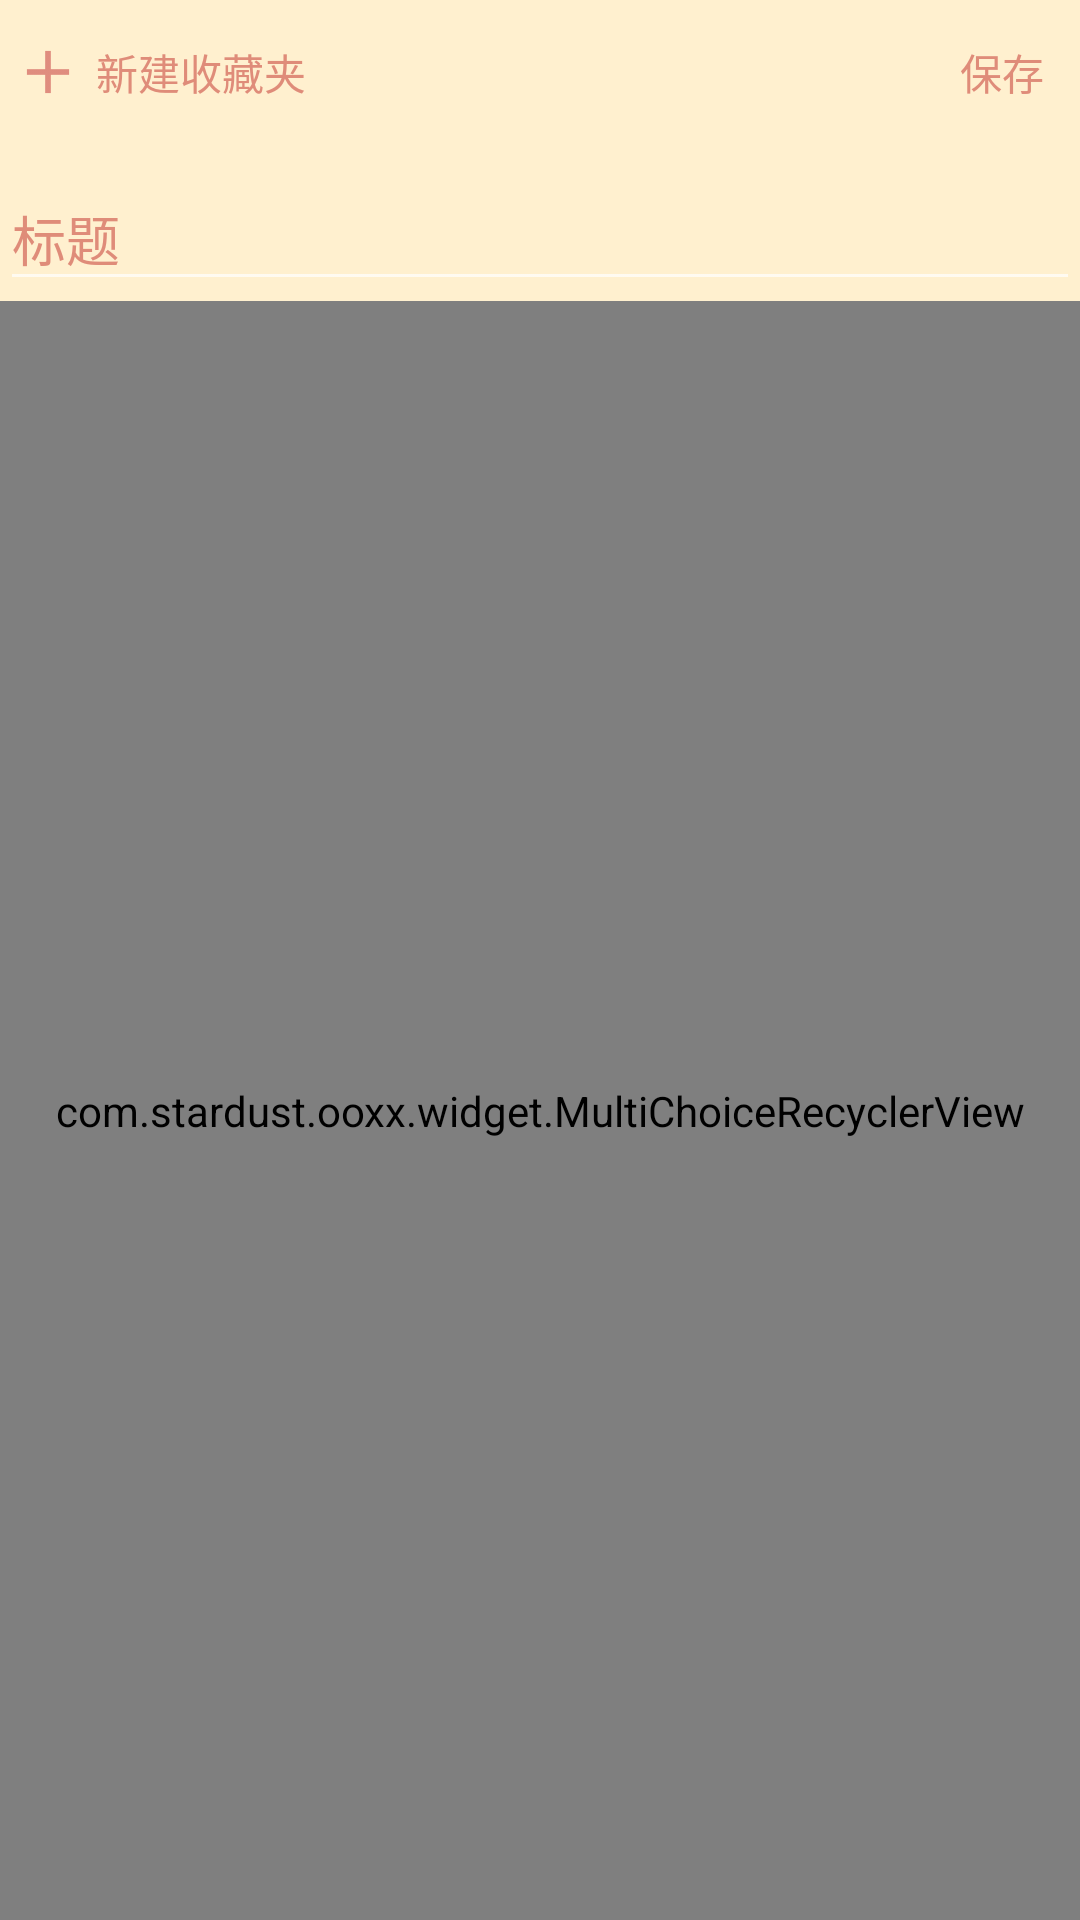

Icon click points for this 1080px x 1920px phone screenshot, format [x,y]:
plus: [48,72]
